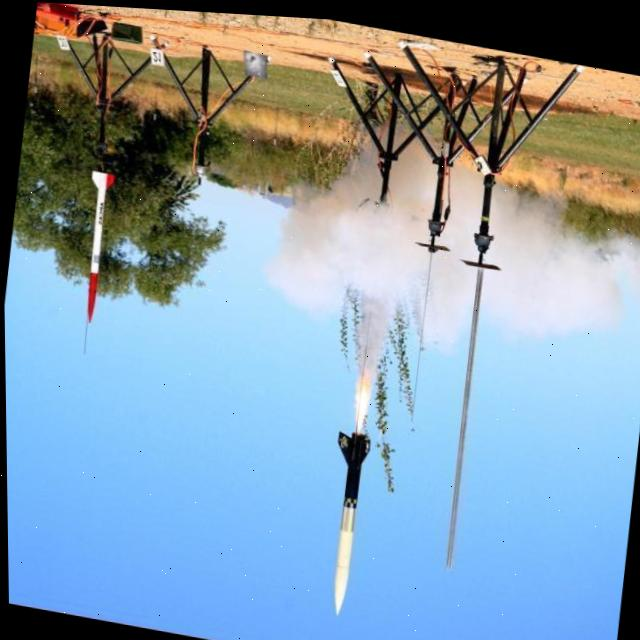missile: (303, 402, 393, 624), (64, 158, 126, 357)
